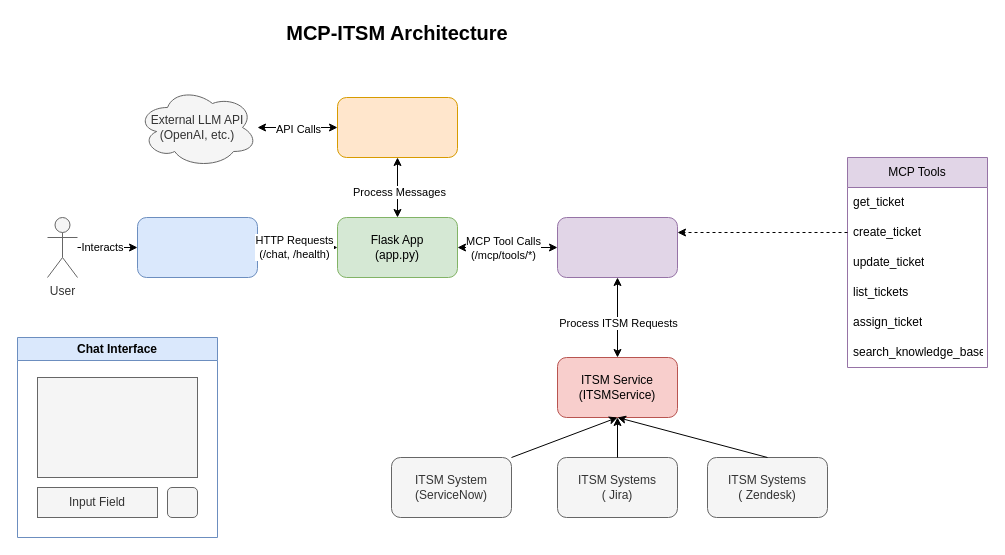
The diagram is 1005 pixels wide and 555 high, and some of its shapes have lost their labels. Each missing label, with the centre of its shape:
"LLM Handler (LLMChatbotHandler)" goes at (397,127).
"MCP Server (Model Context Protocol)" goes at (617,247).
"Messages Container" goes at (117,427).
"Send" goes at (182,502).
"Web Browser" goes at (197,247).
